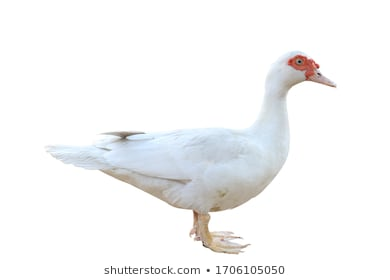duck: (24, 24, 345, 260)
